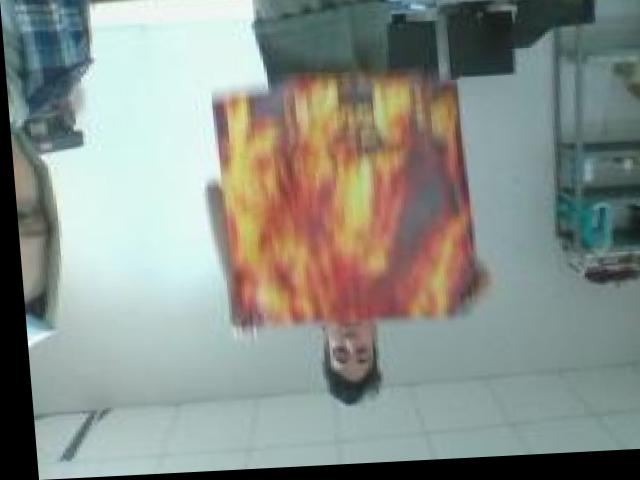fire-poster: (202, 67, 485, 337)
